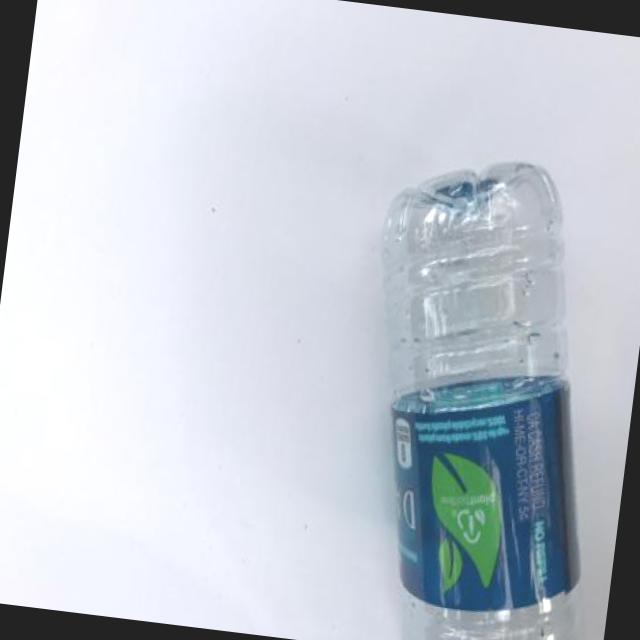Recycle: (327, 143, 640, 640)
